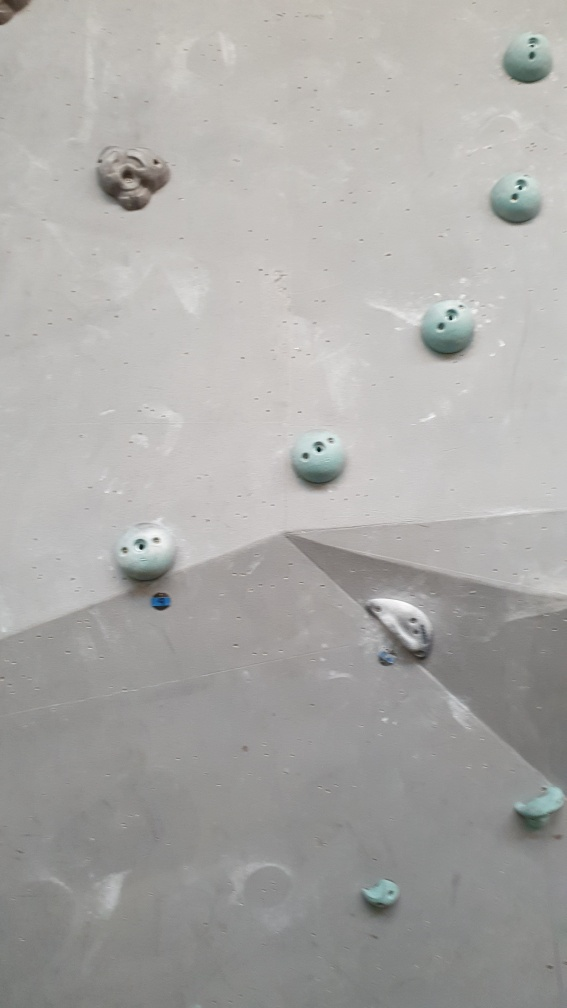Hand Start: (151, 589, 173, 612), (375, 649, 398, 670)
Jug: (96, 141, 174, 212), (515, 783, 563, 832)
Sloper: (110, 519, 178, 583), (293, 429, 351, 489), (421, 297, 478, 356), (491, 170, 547, 229), (501, 28, 557, 84)
